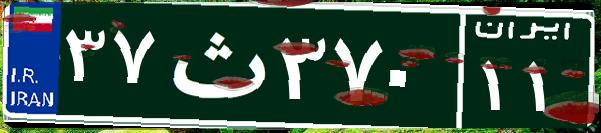0: (385, 28, 445, 110)
1: (475, 38, 525, 113), (525, 38, 570, 115)
3: (273, 28, 330, 110), (57, 26, 110, 107)
7: (330, 28, 385, 110), (110, 28, 158, 105)
ث: (158, 15, 273, 115)
